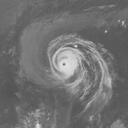cyclone: (47, 33, 109, 91)
